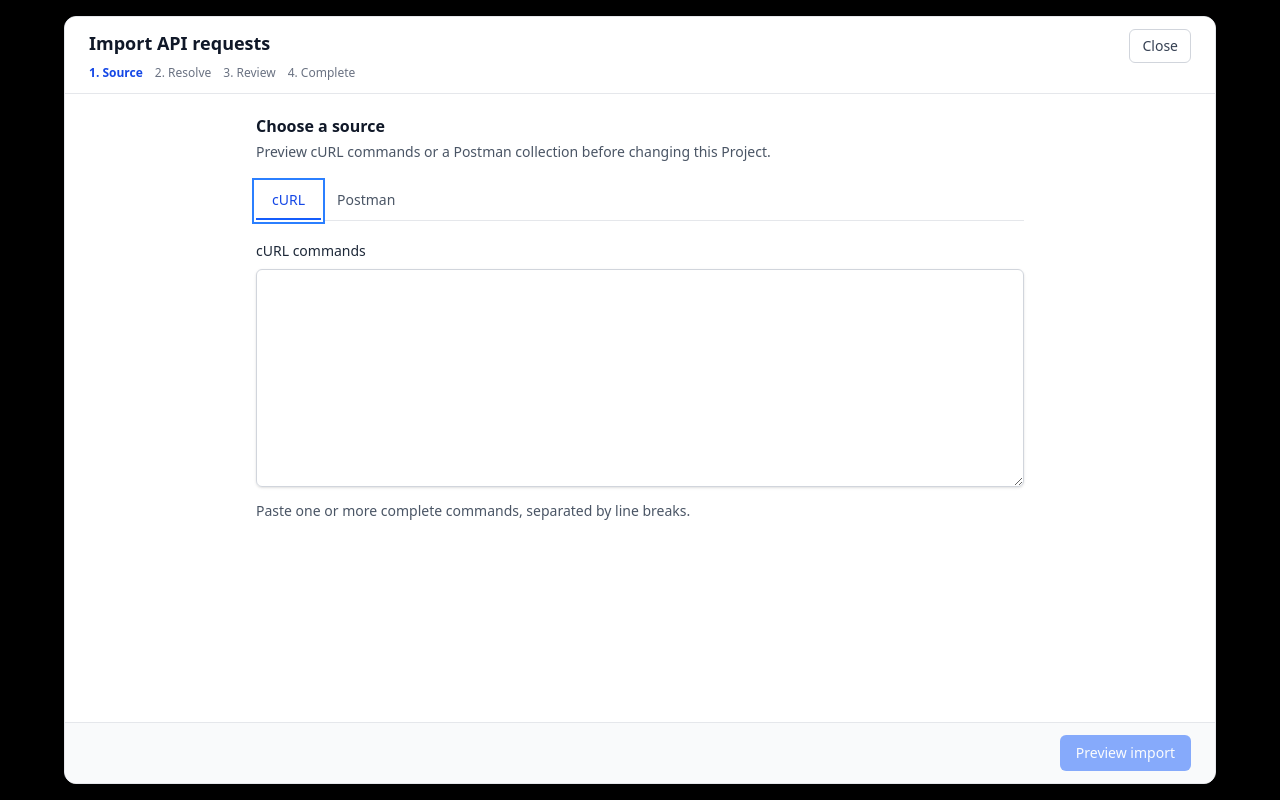
Test: ImportWizard › gates commit on merge target selection and equal-specificity confirmation
In the text box labelled "cURL commands": (640, 378) top-left (256, 269), bottom-right (1024, 487), type "curl -H 'Authorization: super-secret' https://api.example.test/users"
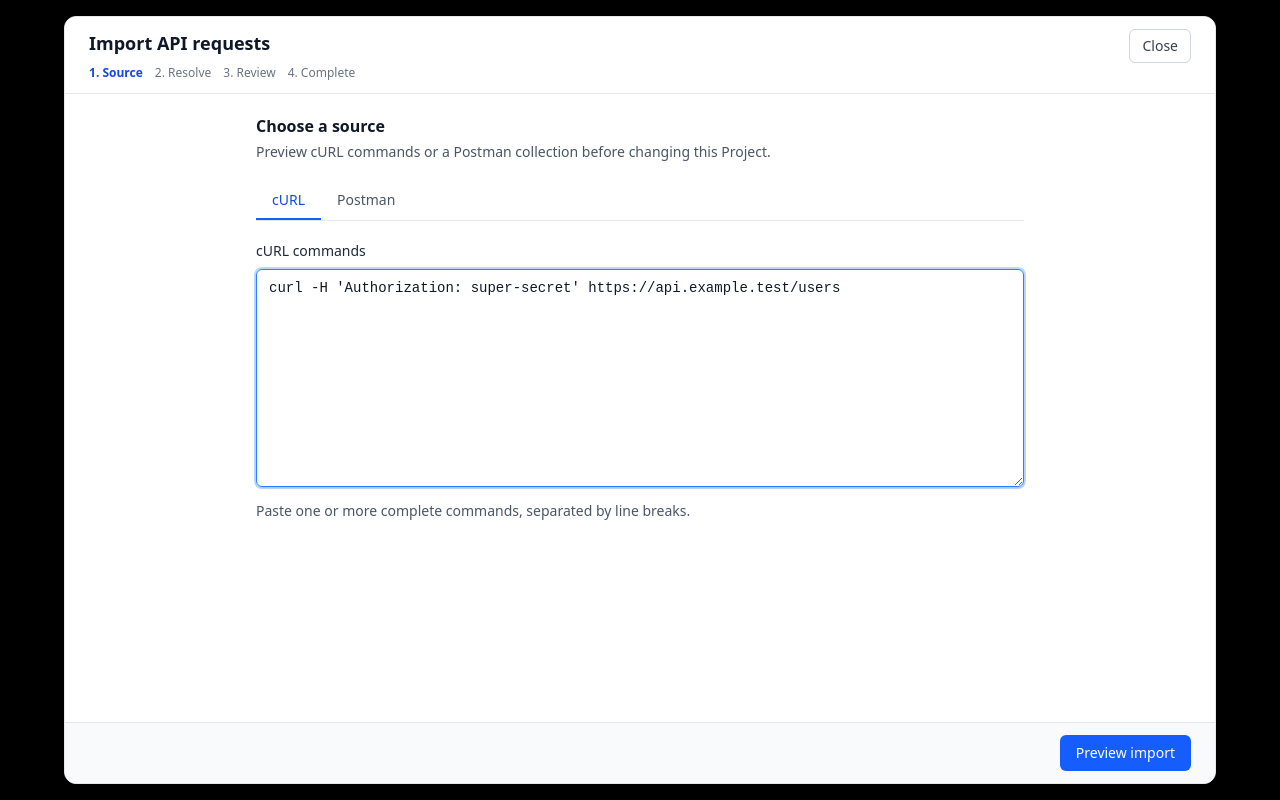
Click the button "Preview import": (1125, 753) top-left (1060, 735), bottom-right (1191, 771)
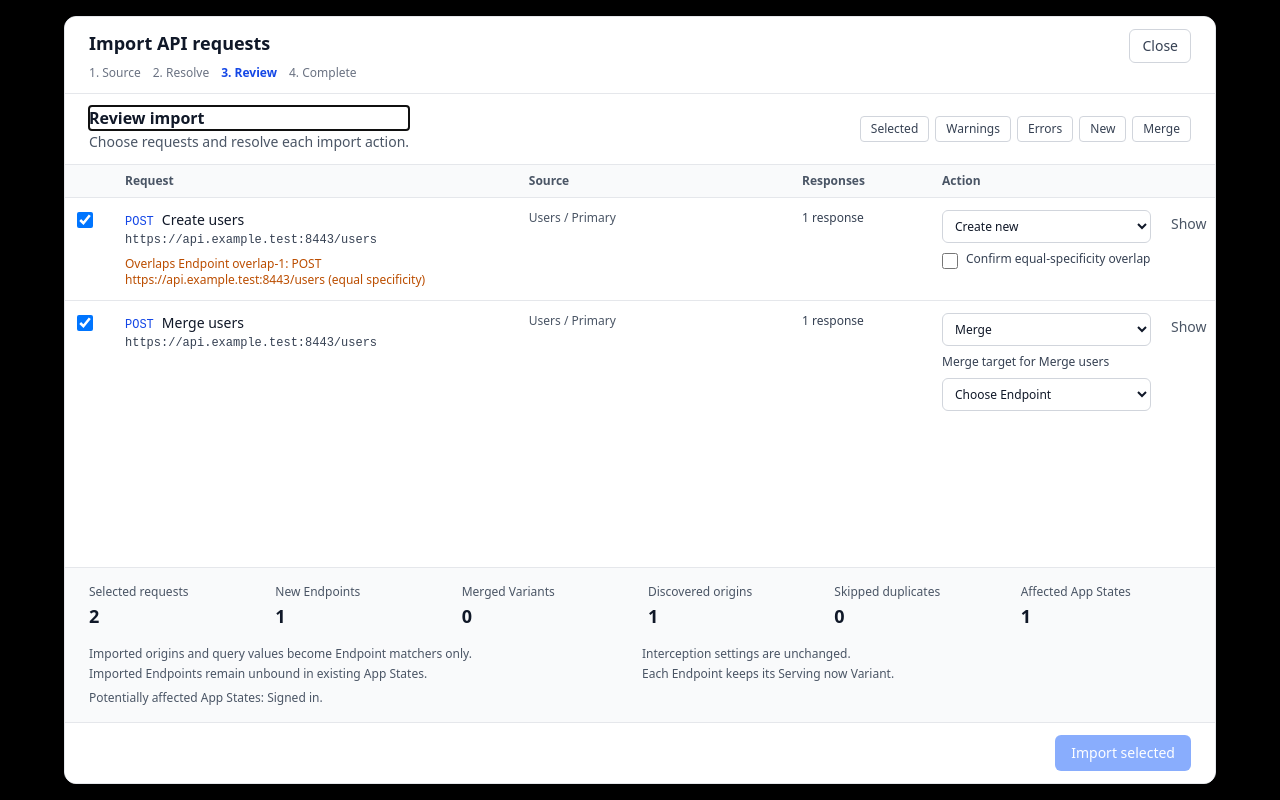
Result: the heading "Review import" is shown at top-left (89, 107), bottom-right (204, 129)
Result: the text "Overlaps Endpoint overlap-1: POST https://api.example.test:8443/users (equal specificity)" is shown at top-left (125, 255), bottom-right (425, 288)
Result: the button "Import selected" is disabled at top-left (1055, 735), bottom-right (1191, 771)
Select "Users A (0 new)" in the dropdown labelled "Merge target for Merge users": (1046, 394) top-left (942, 378), bottom-right (1151, 411)
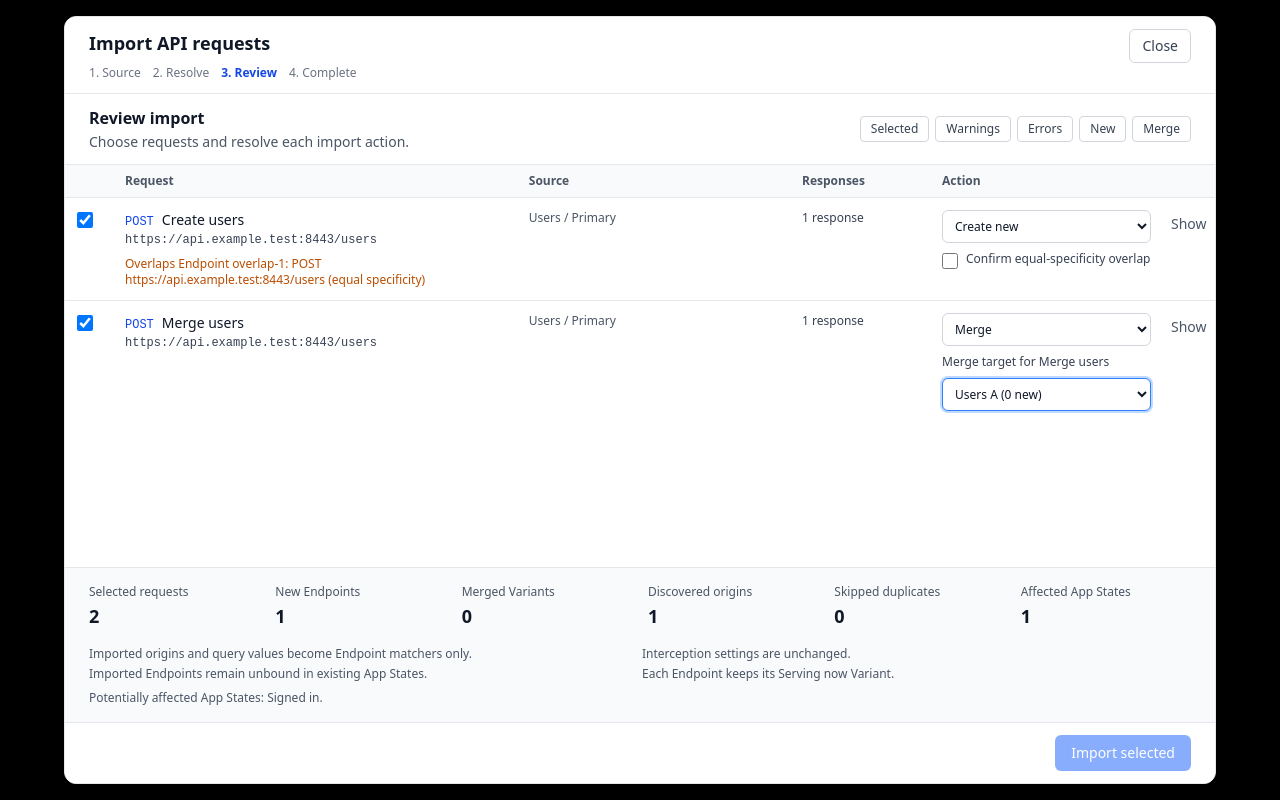
Result: the text with test id "merged-variants-count" reads "0" at top-left (462, 604), bottom-right (472, 628)
Result: the button "Import selected" is disabled at top-left (1055, 735), bottom-right (1191, 771)
Select "Users B (2 new)" in the dropdown labelled "Merge target for Merge users": (1046, 394) top-left (942, 378), bottom-right (1151, 411)
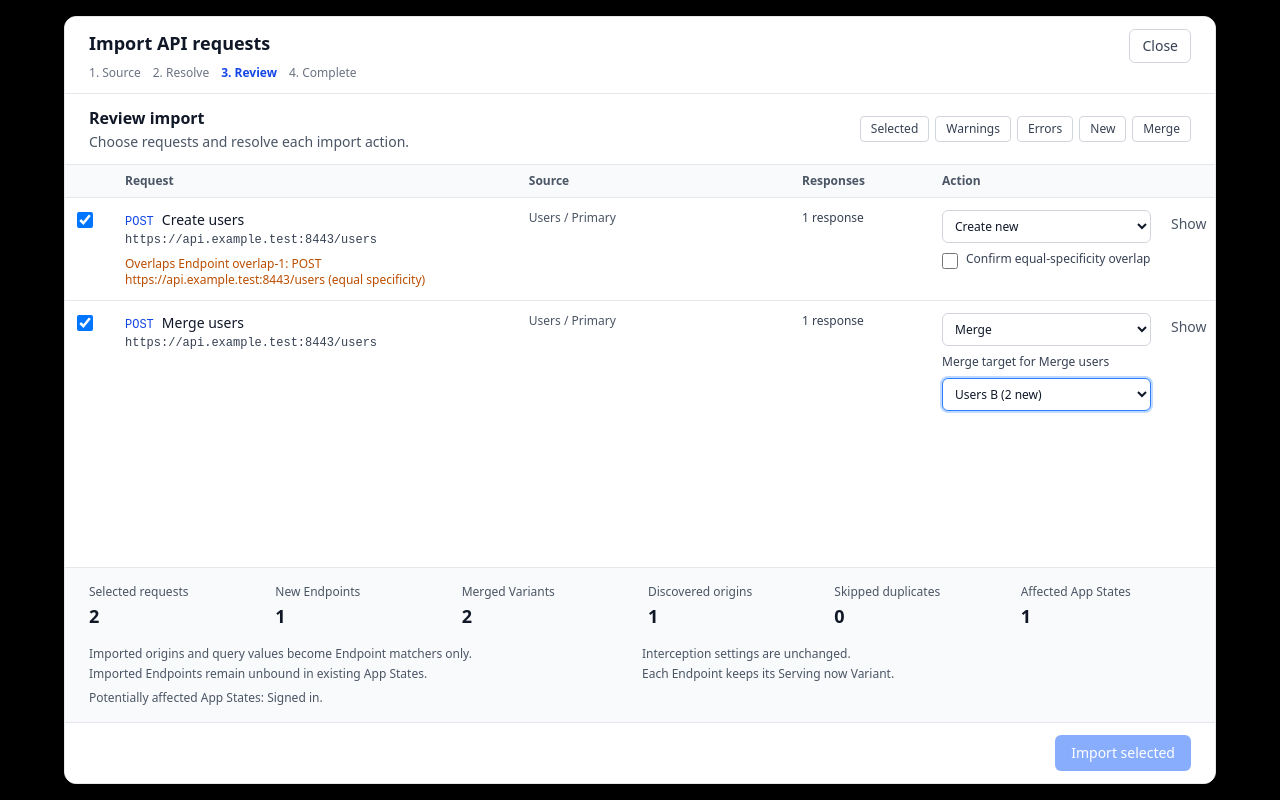
Result: the button "Import selected" is disabled at top-left (1055, 735), bottom-right (1191, 771)
Result: the text with test id "merged-variants-count" reads "2" at top-left (462, 604), bottom-right (472, 628)
Click the checkbox named "Confirm overlap for Create users": (950, 261) top-left (942, 253), bottom-right (958, 269)
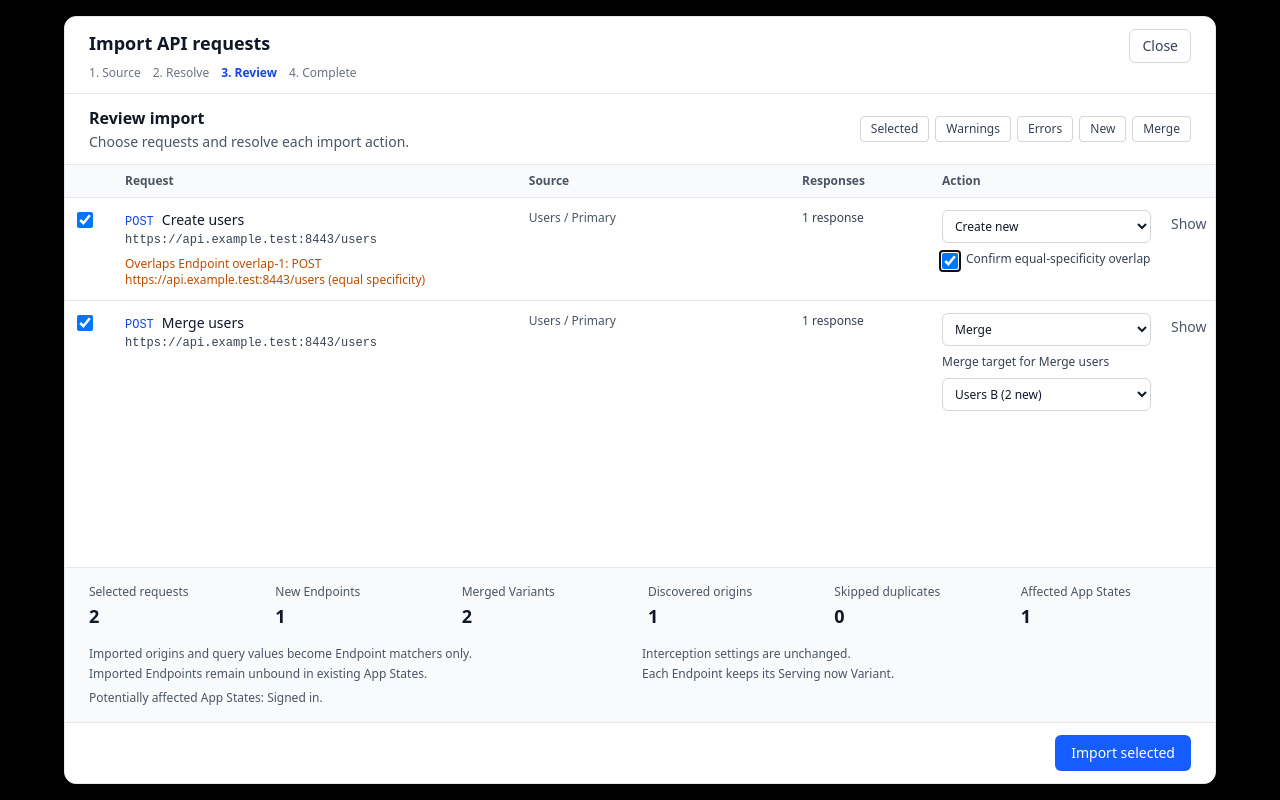
Result: the button "Import selected" is enabled at top-left (1055, 735), bottom-right (1191, 771)
